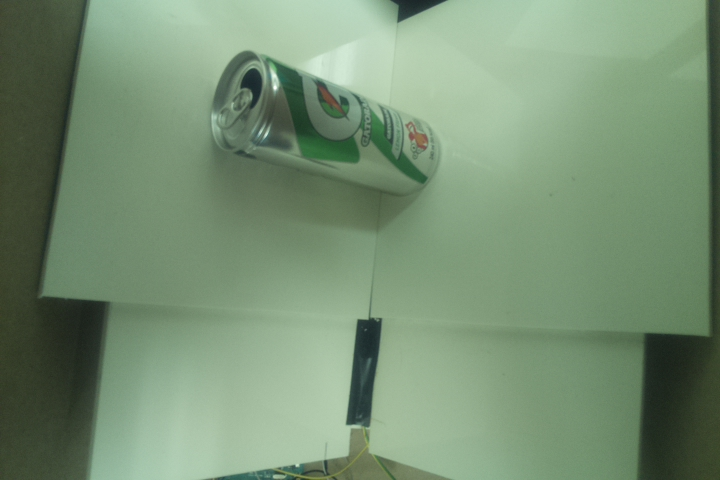can: (209, 48, 443, 199)
